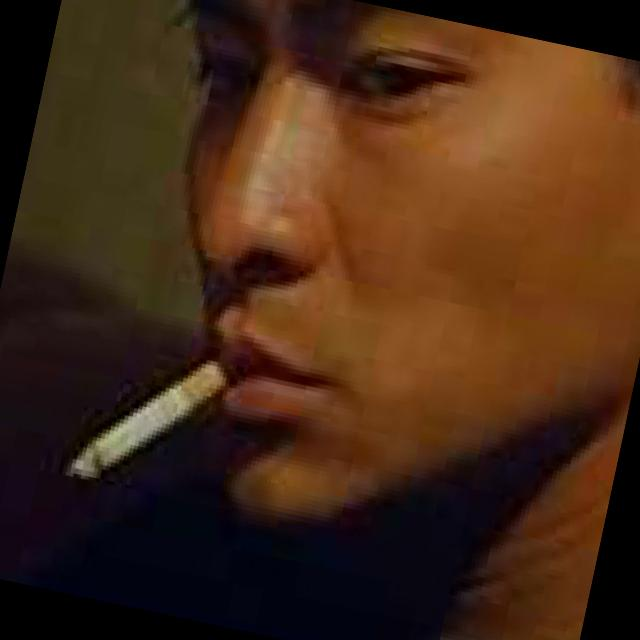cigarette: (58, 336, 218, 518)
